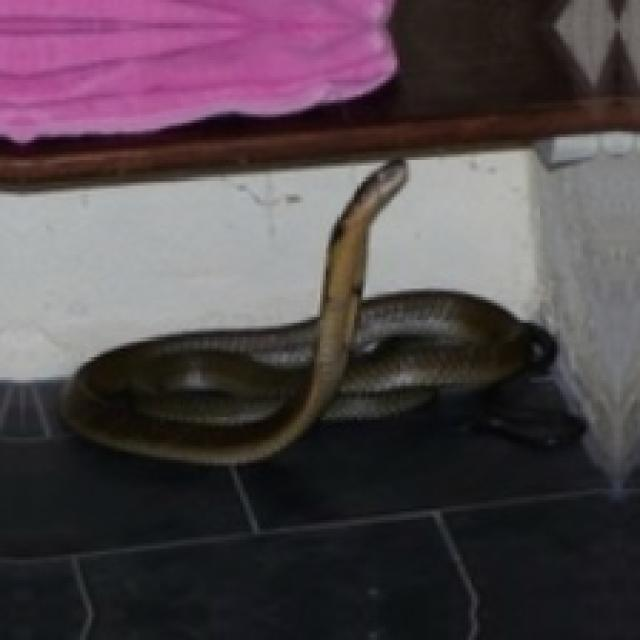king cobra: (63, 160, 551, 463)
